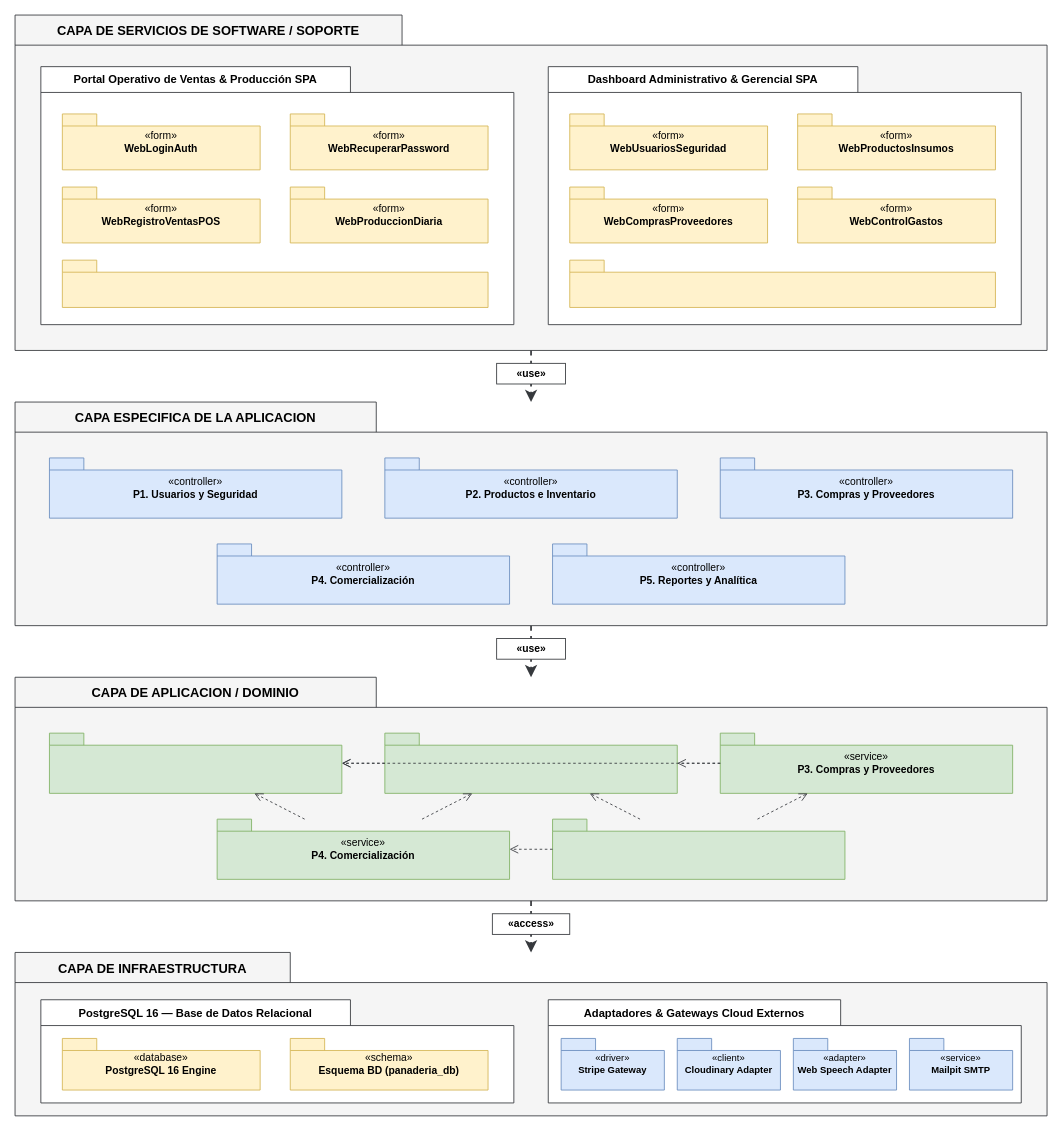
This 1062x1131 diagram has some shape labels left out. Here are the shapes that lost their labels. From the top down, the centre of each, then its label:
the point at 274,283: «form» WebExistenciasKardex
the point at 782,283: «form» WebReportesAnalitica
the point at 195,762: «service» P1. Usuarios y Seguridad
the point at 530,762: «service» P2. Productos e Inventario
the point at 698,848: «service» P5. Reportes y Analítica
